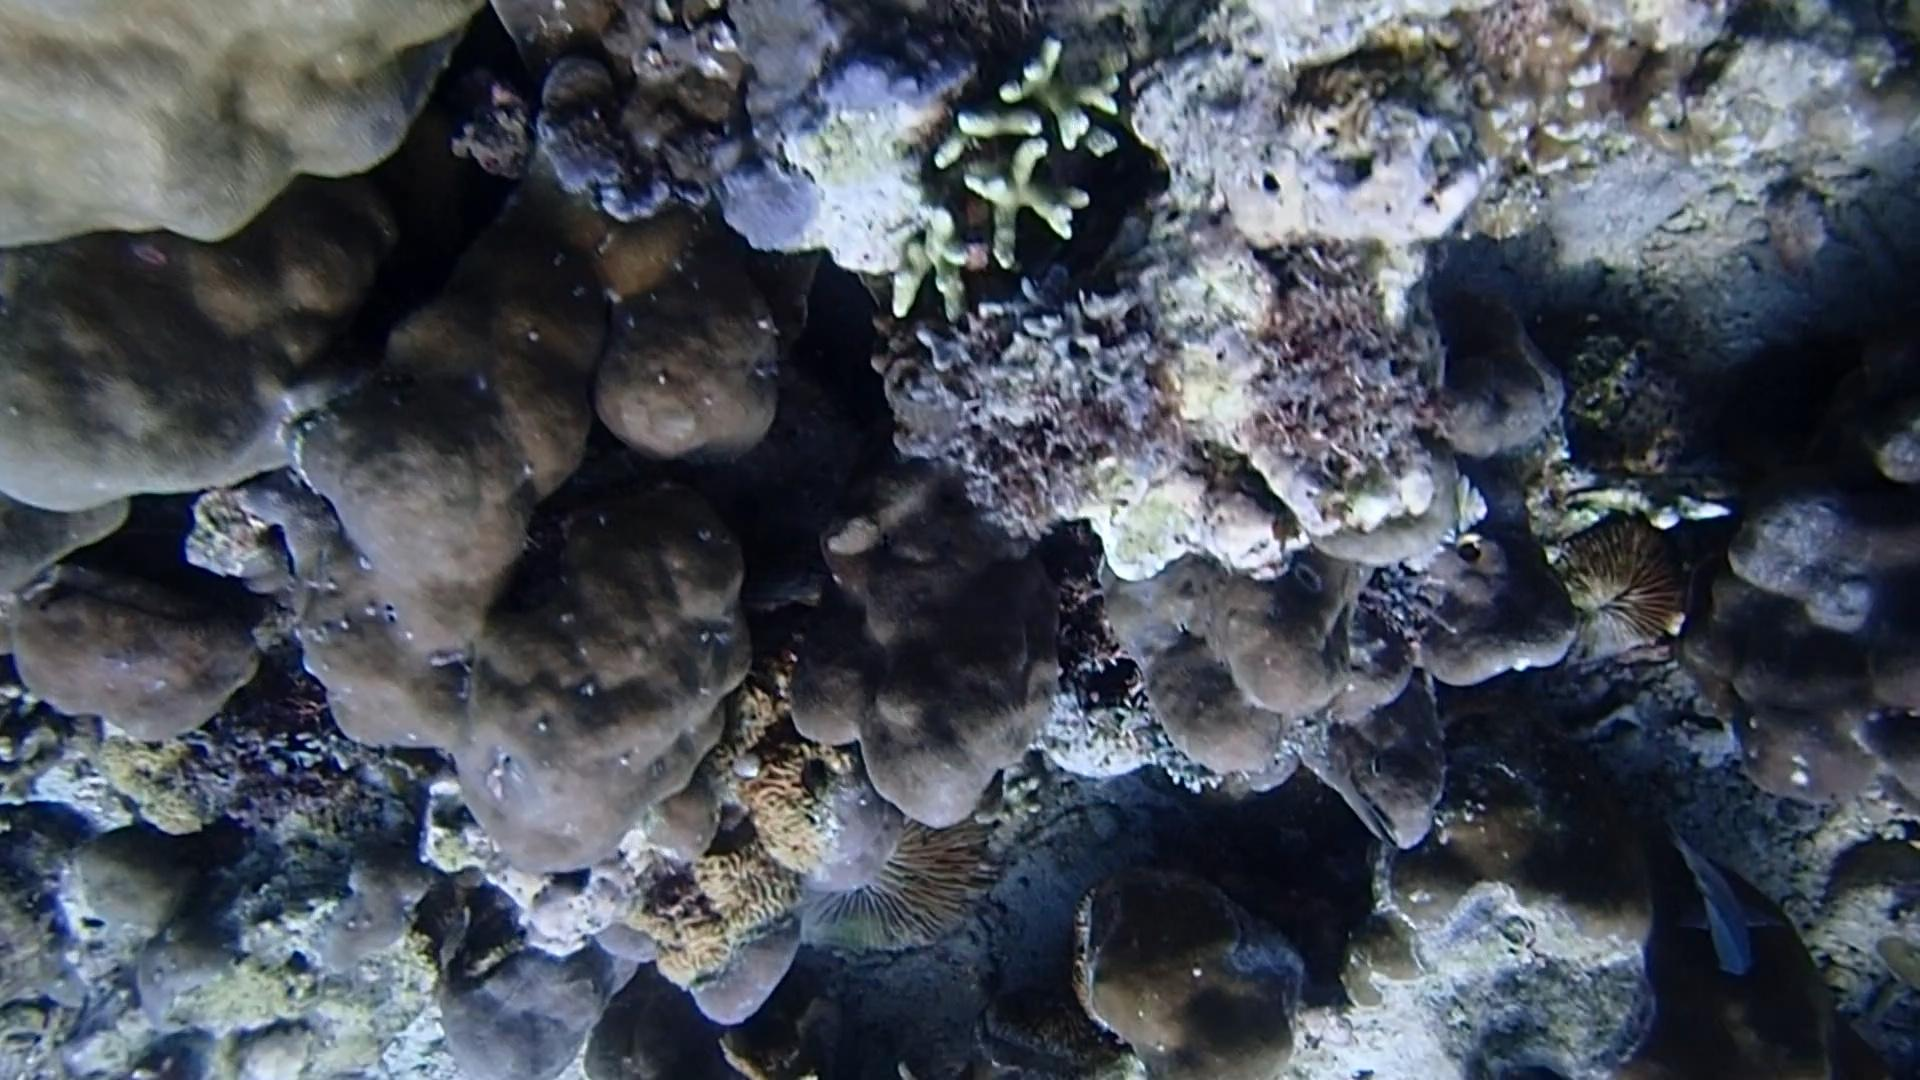Blue Fish Two: (1677, 824, 1766, 993)
